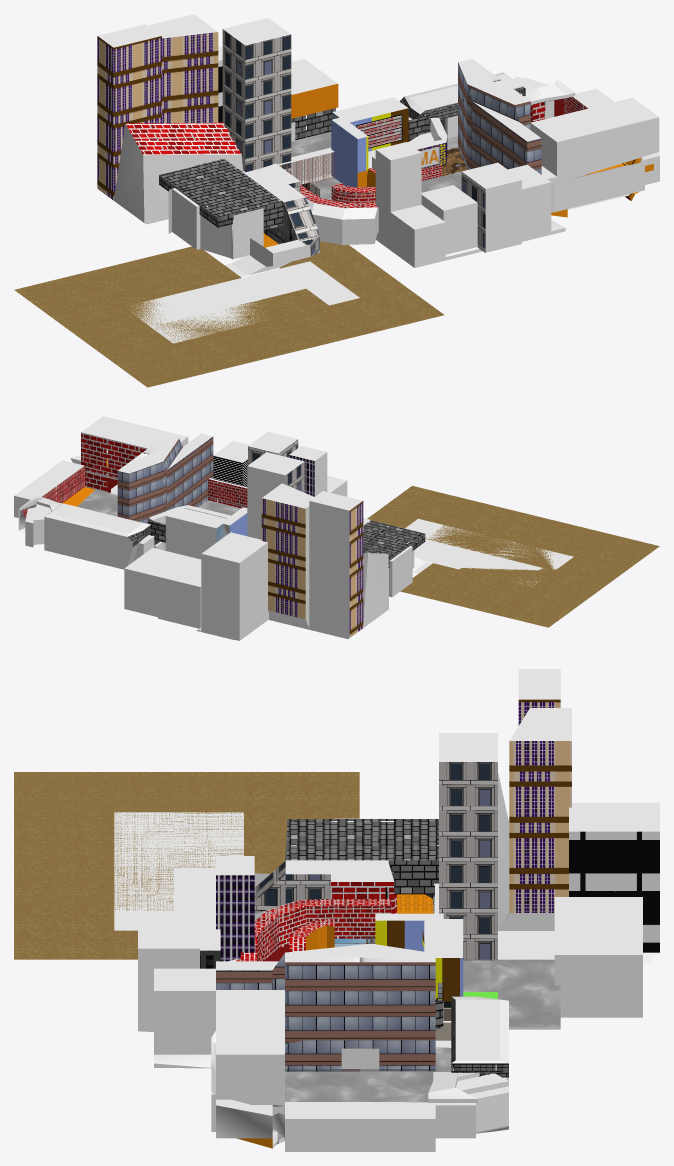
File: Map.obj
The picture shows the model from 3 angles, top to bottom: view 1: azimuth 30°, elevation 25°; view 2: azimuth 150°, elevation 25°; view 3: azimuth 270°, elevation 25°; orthographic projection. The views are drawn at different scales.
Visible parts, largest first — view 1: Map_0, Map_30, Map_24, Map_20, Map_11, Map_7, Map_5, Map_1, Map_14, Map_31, Map_4, Map_39 (+5 smaller); view 2: Map_0, Map_30, Map_24, Map_5, Map_7, Map_11, Map_1, Map_31, Map_19, Map_20, Map_3, Map_32 (+2 smaller); view 3: Map_0, Map_30, Map_35, Map_20, Map_24, Map_11, Map_25, Map_7, Map_32, Map_5, Map_3, Map_21 (+6 smaller).
Part boxes in pixels (x1,y1,x2,y2): Map_0: (98,14,659,343); Map_30: (31,241,444,387); Map_24: (97,32,218,200); Map_20: (222,29,485,256); Map_11: (159,86,558,229); Map_7: (125,96,587,208); Map_5: (458,62,541,174); Map_1: (113,124,629,222); Map_14: (331,108,408,187); Map_31: (234,76,546,258); Map_4: (291,84,547,202); Map_39: (295,87,524,140); Map_0: (14,416,573,640); Map_30: (367,486,659,621); Map_24: (261,498,363,637); Map_5: (117,436,213,523); Map_7: (22,432,247,518); Map_11: (127,518,425,567); Map_1: (363,553,388,627); Map_31: (33,504,228,627); Map_19: (213,455,247,494); Map_20: (248,439,304,492); Map_3: (77,489,117,513); Map_32: (108,500,240,516); Map_0: (114,669,659,1151); Map_30: (14,772,359,959); Map_35: (216,962,435,1044); Map_20: (254,762,497,959); Map_24: (509,699,571,912); Map_11: (287,819,508,1077); Map_25: (569,831,659,952); Map_7: (236,861,396,961); Map_32: (285,959,560,1101); Map_5: (272,953,435,1071); Map_3: (343,959,560,1102); Map_21: (216,875,254,961).
Bounding box in the file's own units: 16.16 × 4.2 × 11.42.
31 materials, 23 textured.
